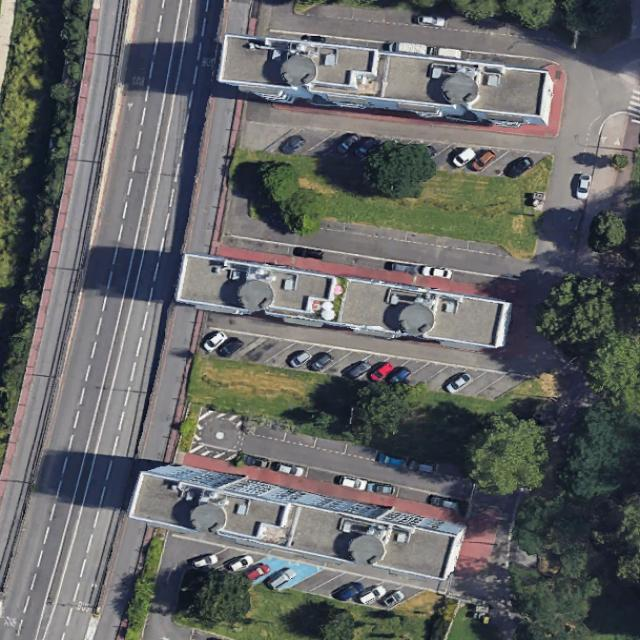immeuble: (126, 458, 467, 588), (215, 21, 566, 135), (175, 252, 512, 354)
